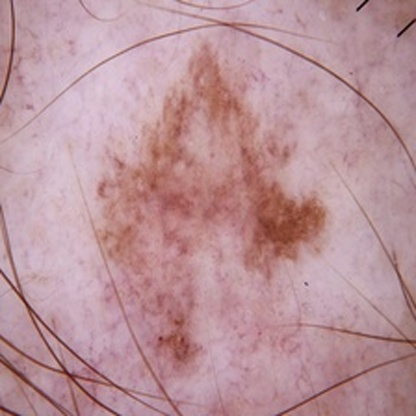malignant: (128, 88, 307, 335)
